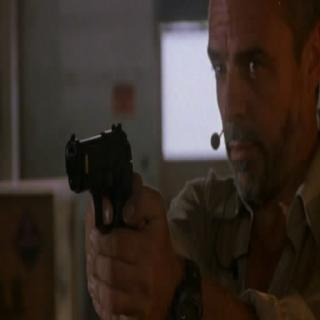gun: (57, 112, 185, 304)
